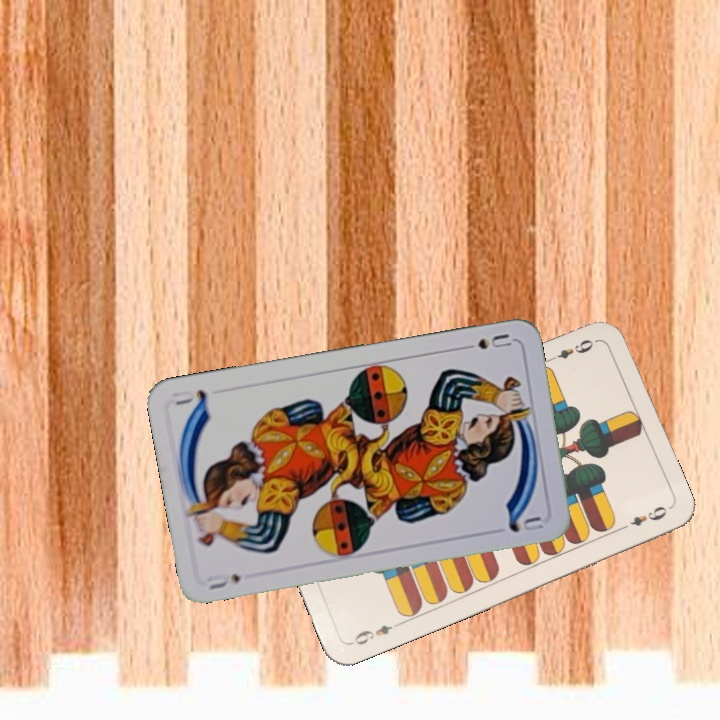E9: (347, 618, 403, 648), (545, 335, 601, 364)
SU: (456, 329, 514, 353), (203, 569, 244, 593)
